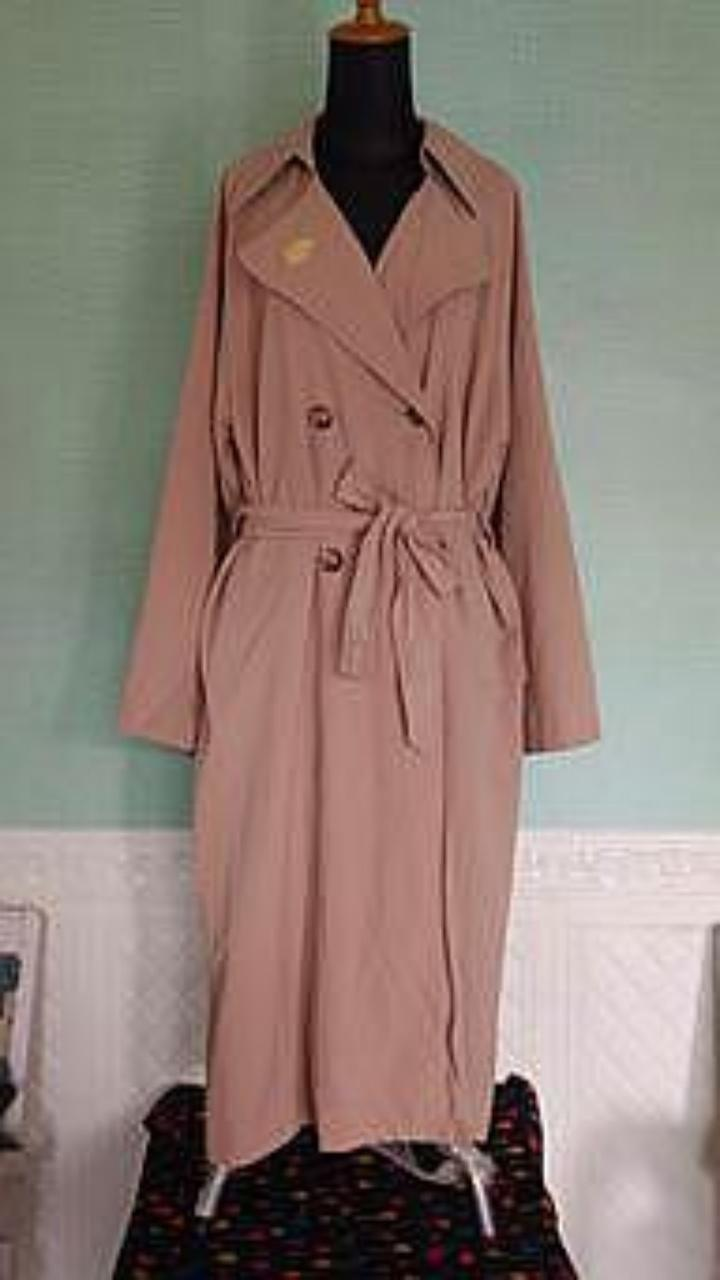Coat: (119, 115, 599, 1164)
